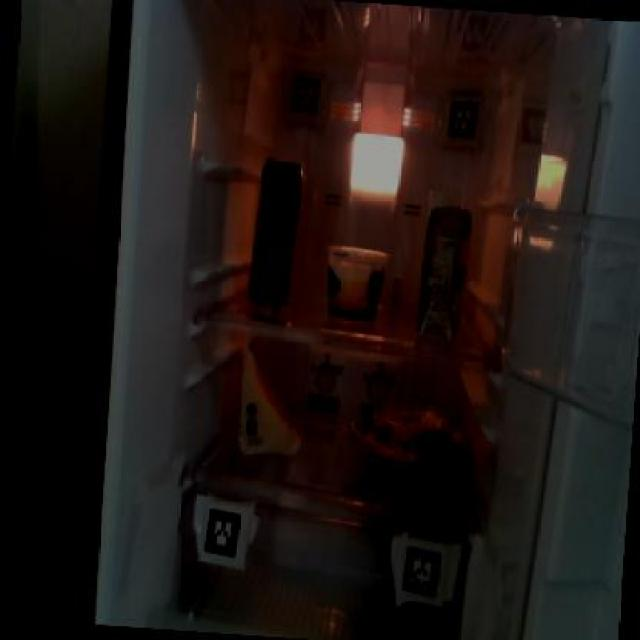bento: (344, 402, 474, 486)
energy_drink: (244, 157, 304, 306)
pudding: (321, 238, 390, 322)
sandwich: (230, 335, 310, 463)
smoothie: (412, 186, 476, 346)
